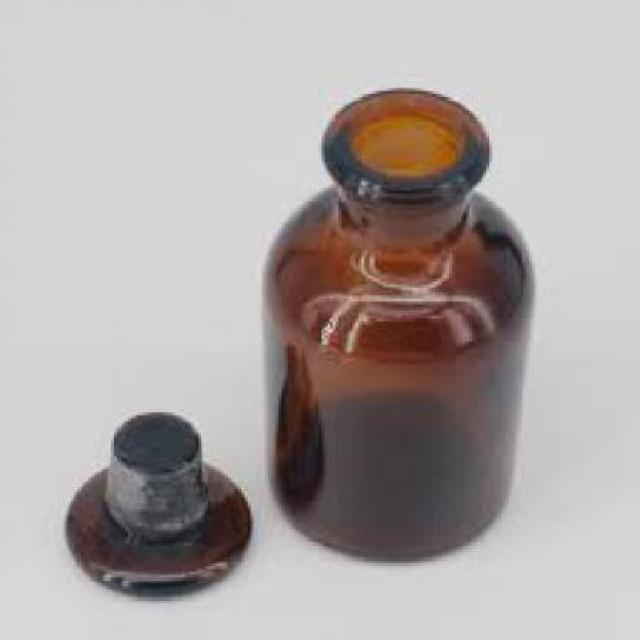kaca: (262, 86, 532, 562), (60, 411, 251, 595)
